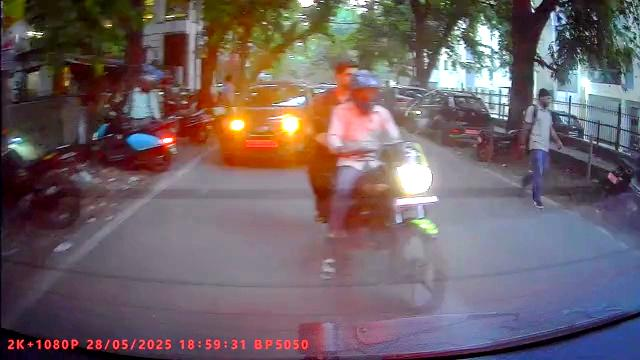motorcycle_with_helmet: (304, 65, 452, 311)
passenger_without_helmet: (304, 59, 452, 311)
